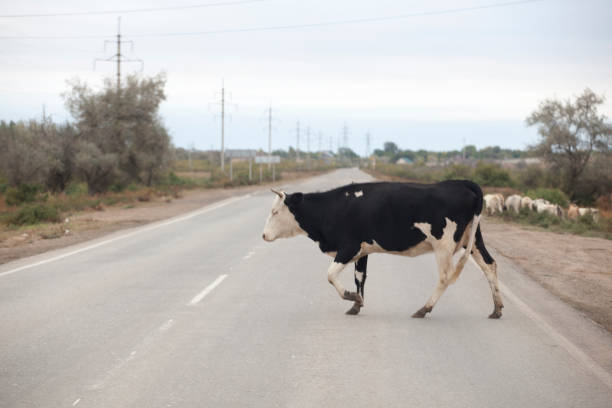inek: (256, 183, 506, 339)
